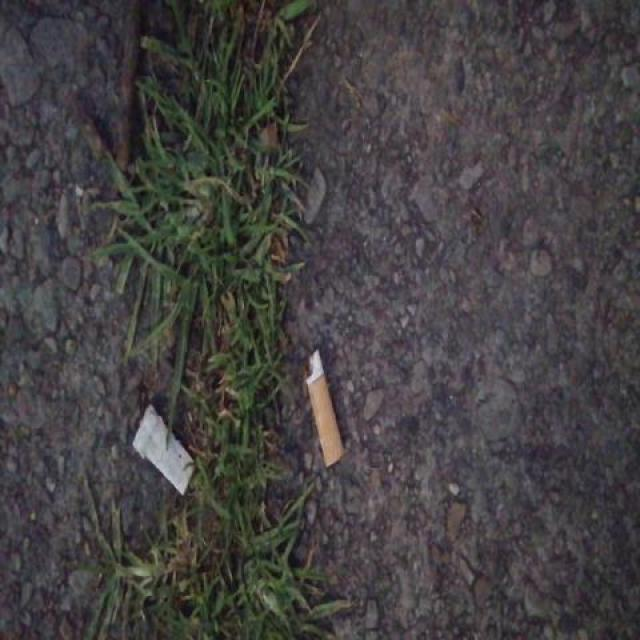non-organic waste: (127, 400, 202, 500), (300, 343, 349, 472)
